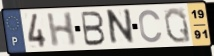4: (26, 12, 48, 50)
B: (80, 10, 107, 47)
C: (137, 9, 164, 45)
H: (45, 11, 78, 49)
N: (107, 7, 136, 48)
Q: (163, 7, 193, 45)
